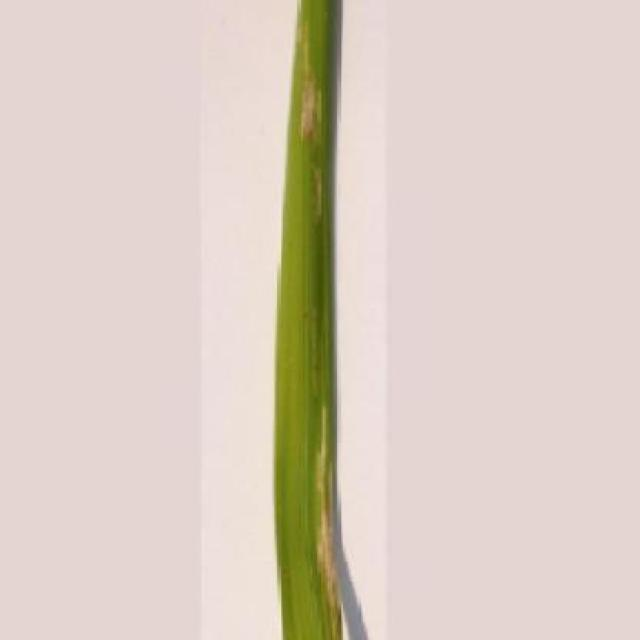Brown_Spot: (274, 0, 355, 640)
